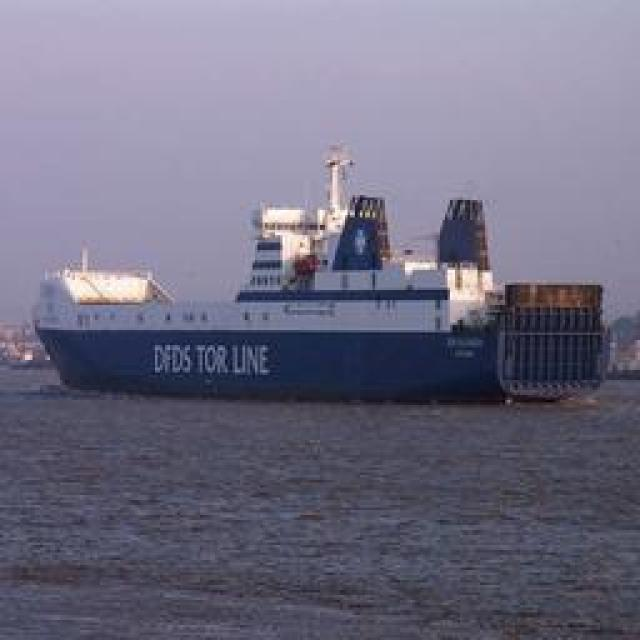ship2: (36, 140, 610, 406)
